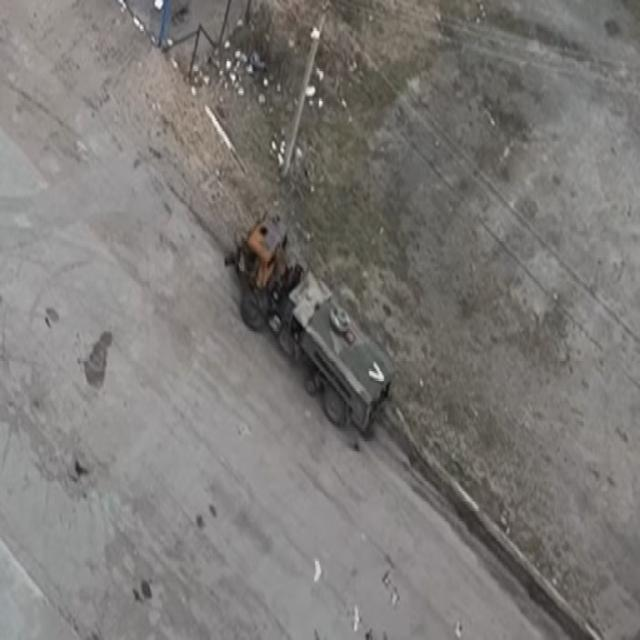TRUCK: (222, 209, 392, 451)
